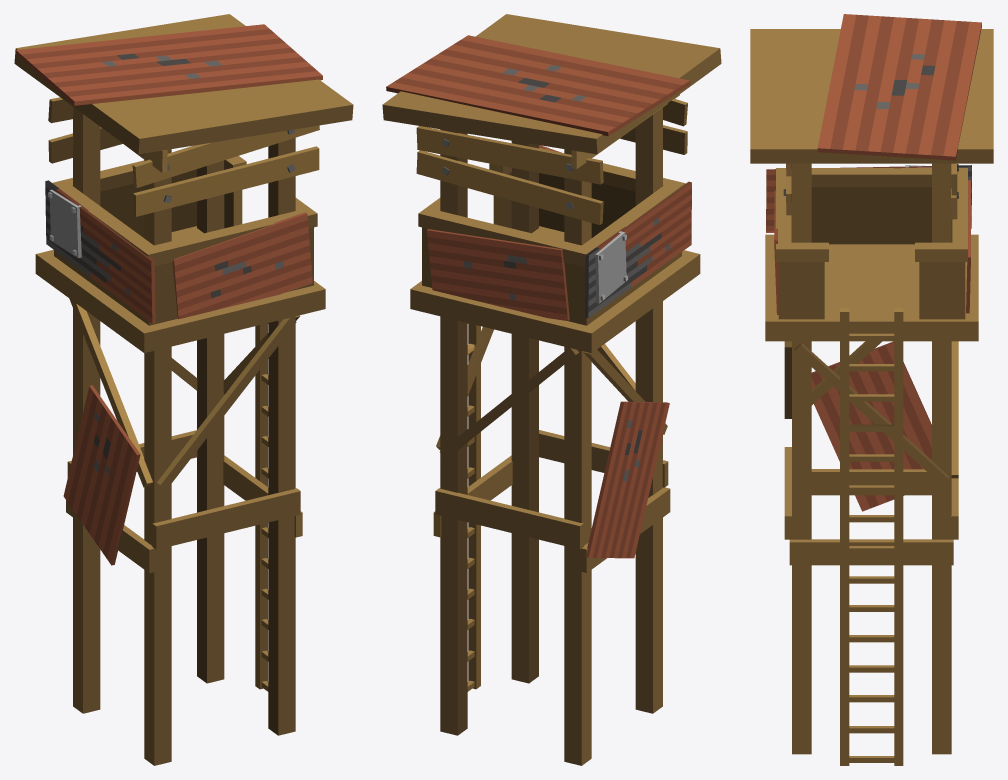
Rendered from SA_Prop_GuardTower_01.fbx.
3 renders of one model, left to right at view 1: azimuth 30°, elevation 25°; view 2: azimuth 150°, elevation 25°; view 3: azimuth 270°, elevation 25°, orthographic.
Visible parts, largest first — view 1: SA_Prop_GuardTower_01; view 2: SA_Prop_GuardTower_01; view 3: SA_Prop_GuardTower_01.
Boxes of the visible parts, <box> form: SA_Prop_GuardTower_01: <box>14,14,353,765</box>; SA_Prop_GuardTower_01: <box>382,14,721,765</box>; SA_Prop_GuardTower_01: <box>750,14,993,765</box>.
Size of the model in its own units: 5.21 by 13.24 by 4.52.
Materials: 1 (1 with a texture image).
